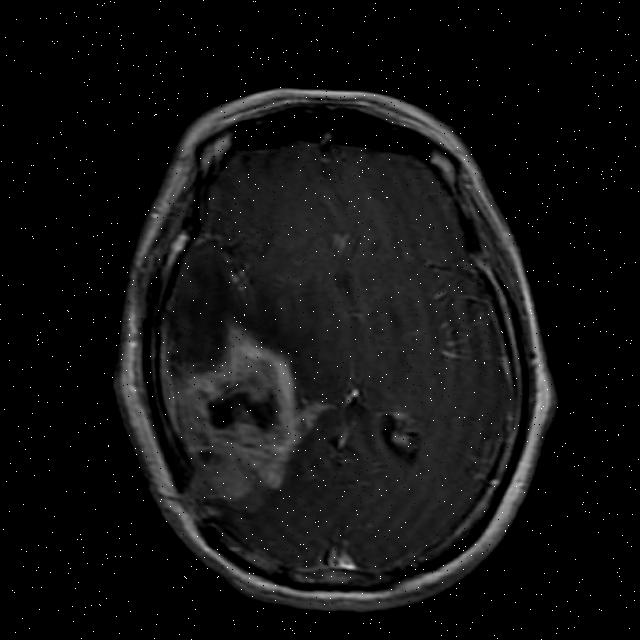Glioma: (164, 308, 341, 517)
